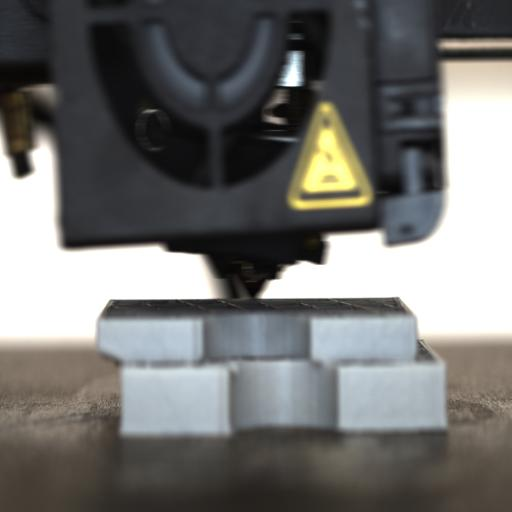layer_shift: (96, 352, 448, 376)
